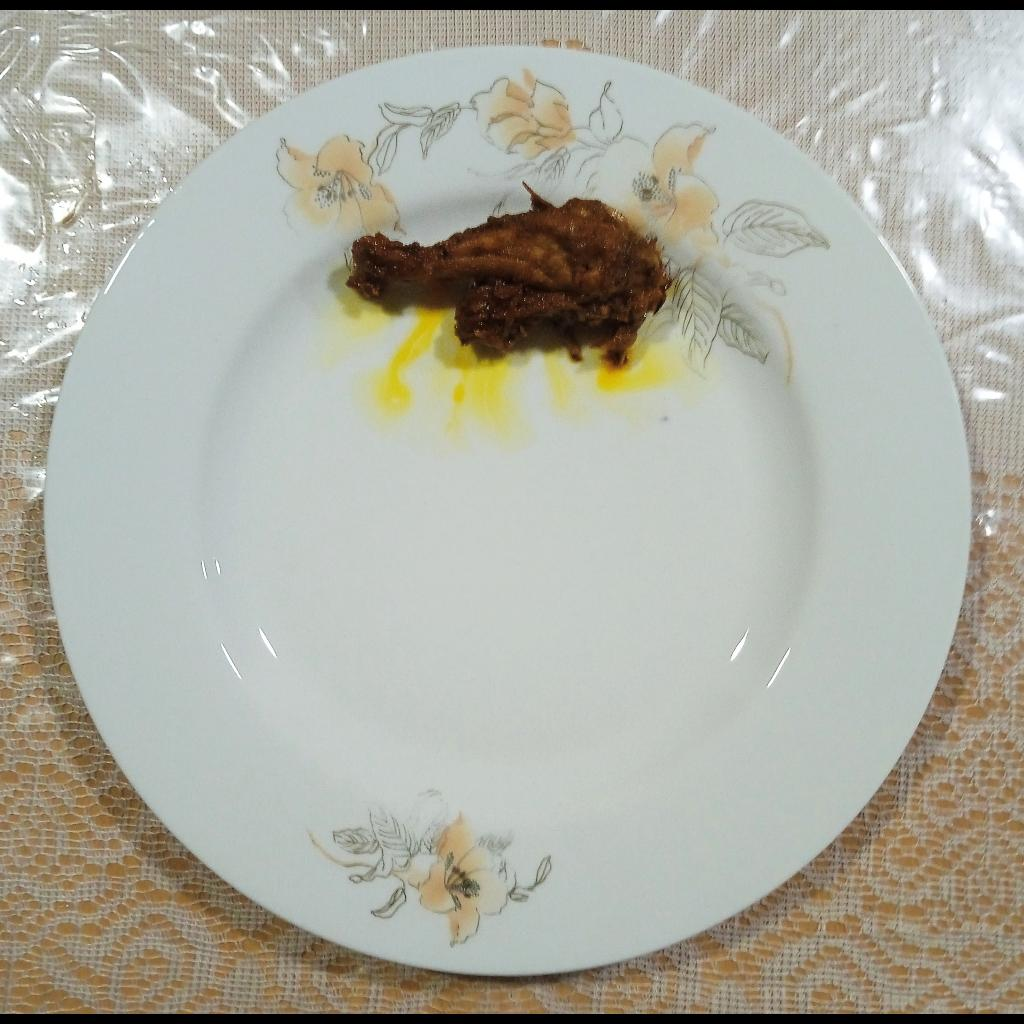chicken: (344, 185, 671, 368)
